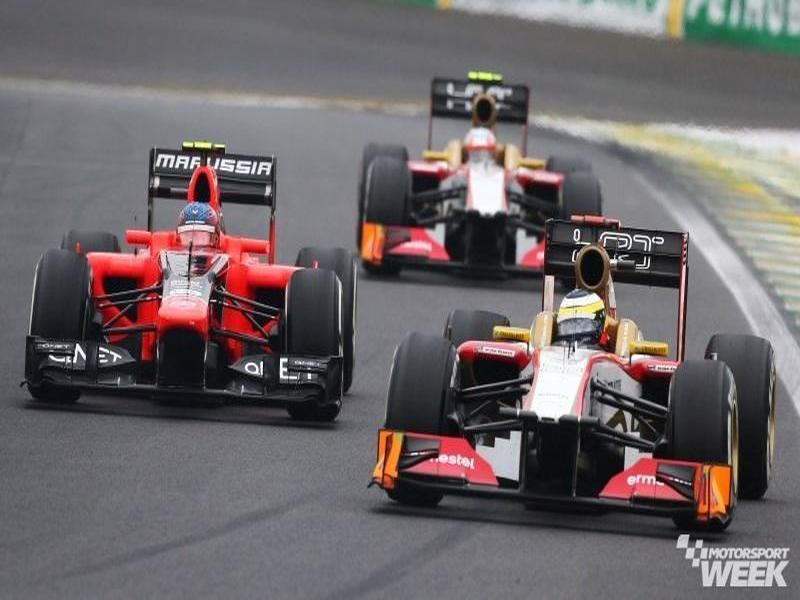f1: (378, 216, 796, 558), (22, 131, 360, 434), (360, 81, 620, 278)
